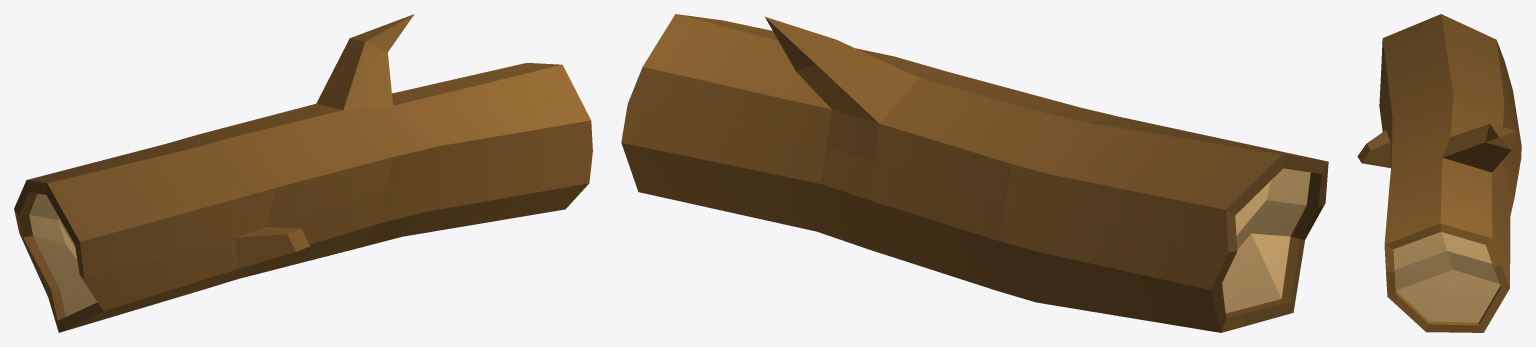
The model's file is LowPoly_TREE_D.glb.
3 views of the same model, side by side, from view 1: azimuth 30°, elevation 25°; view 2: azimuth 150°, elevation 25°; view 3: azimuth 270°, elevation 25° (orthographic). The views are drawn at different scales.
Visible parts, largest first — view 1: Log_big_knotty; view 2: Log_big_knotty; view 3: Log_big_knotty.
Boxes of the visible parts, bbox=[...] form: Log_big_knotty: bbox=[14, 14, 592, 332]; Log_big_knotty: bbox=[621, 14, 1328, 332]; Log_big_knotty: bbox=[1357, 14, 1521, 332].
Size of the model in its own units: 8.28 by 2.85 by 2.77.
1 material, 1 textured.
